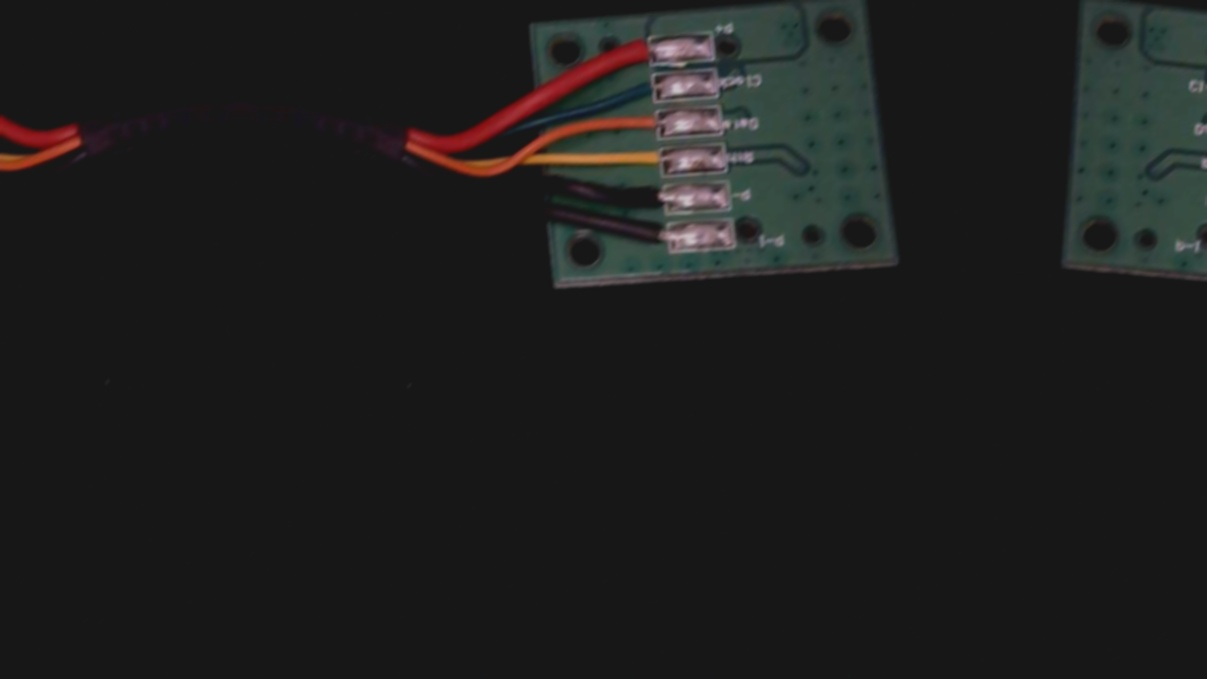Black: (614, 183, 681, 212)
Black1: (618, 220, 683, 253)
Green: (618, 70, 667, 109)
Orange: (616, 107, 672, 140)
Red: (618, 30, 665, 70)
Yellow: (618, 145, 677, 177)
